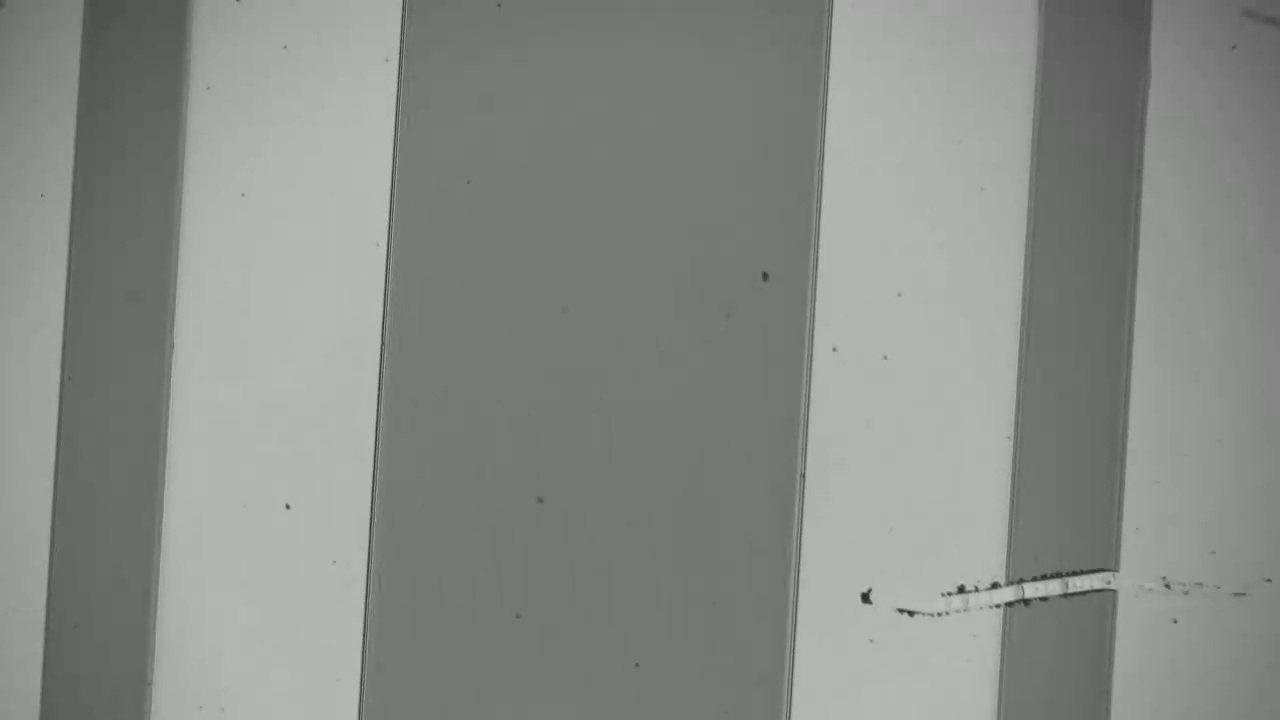Short_circuit: (975, 538, 1142, 632)
